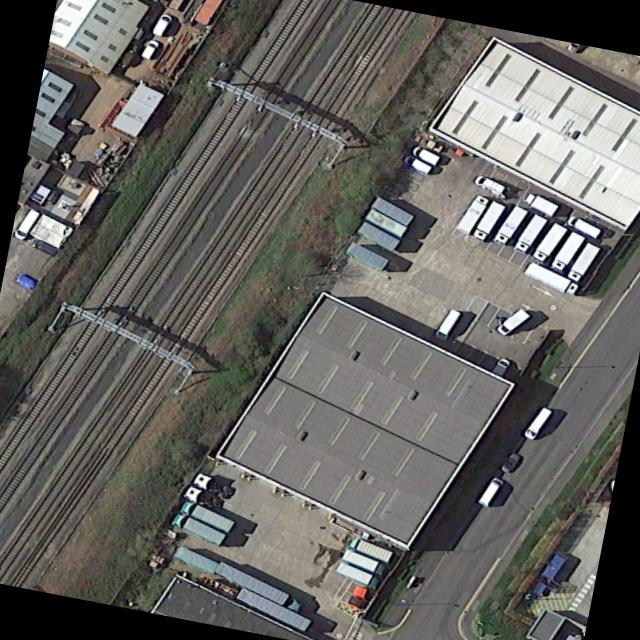large-vehicle: (211, 561, 305, 614), (168, 511, 227, 548), (520, 261, 579, 298), (175, 500, 235, 535), (526, 223, 568, 265), (547, 231, 586, 274), (563, 242, 602, 283), (469, 200, 506, 243), (492, 203, 528, 247), (510, 214, 548, 255), (454, 194, 490, 236), (337, 549, 388, 578), (332, 561, 381, 591), (343, 537, 394, 565), (520, 406, 552, 441), (519, 191, 559, 218), (431, 308, 461, 343), (494, 308, 530, 337), (472, 175, 512, 200), (564, 215, 601, 240), (475, 476, 503, 508), (161, 0, 185, 13)
small-vehicle: (11, 208, 41, 241), (400, 154, 432, 177), (408, 145, 441, 167), (487, 357, 510, 383), (149, 13, 172, 38), (29, 238, 58, 257), (498, 452, 521, 475), (139, 39, 158, 60)
